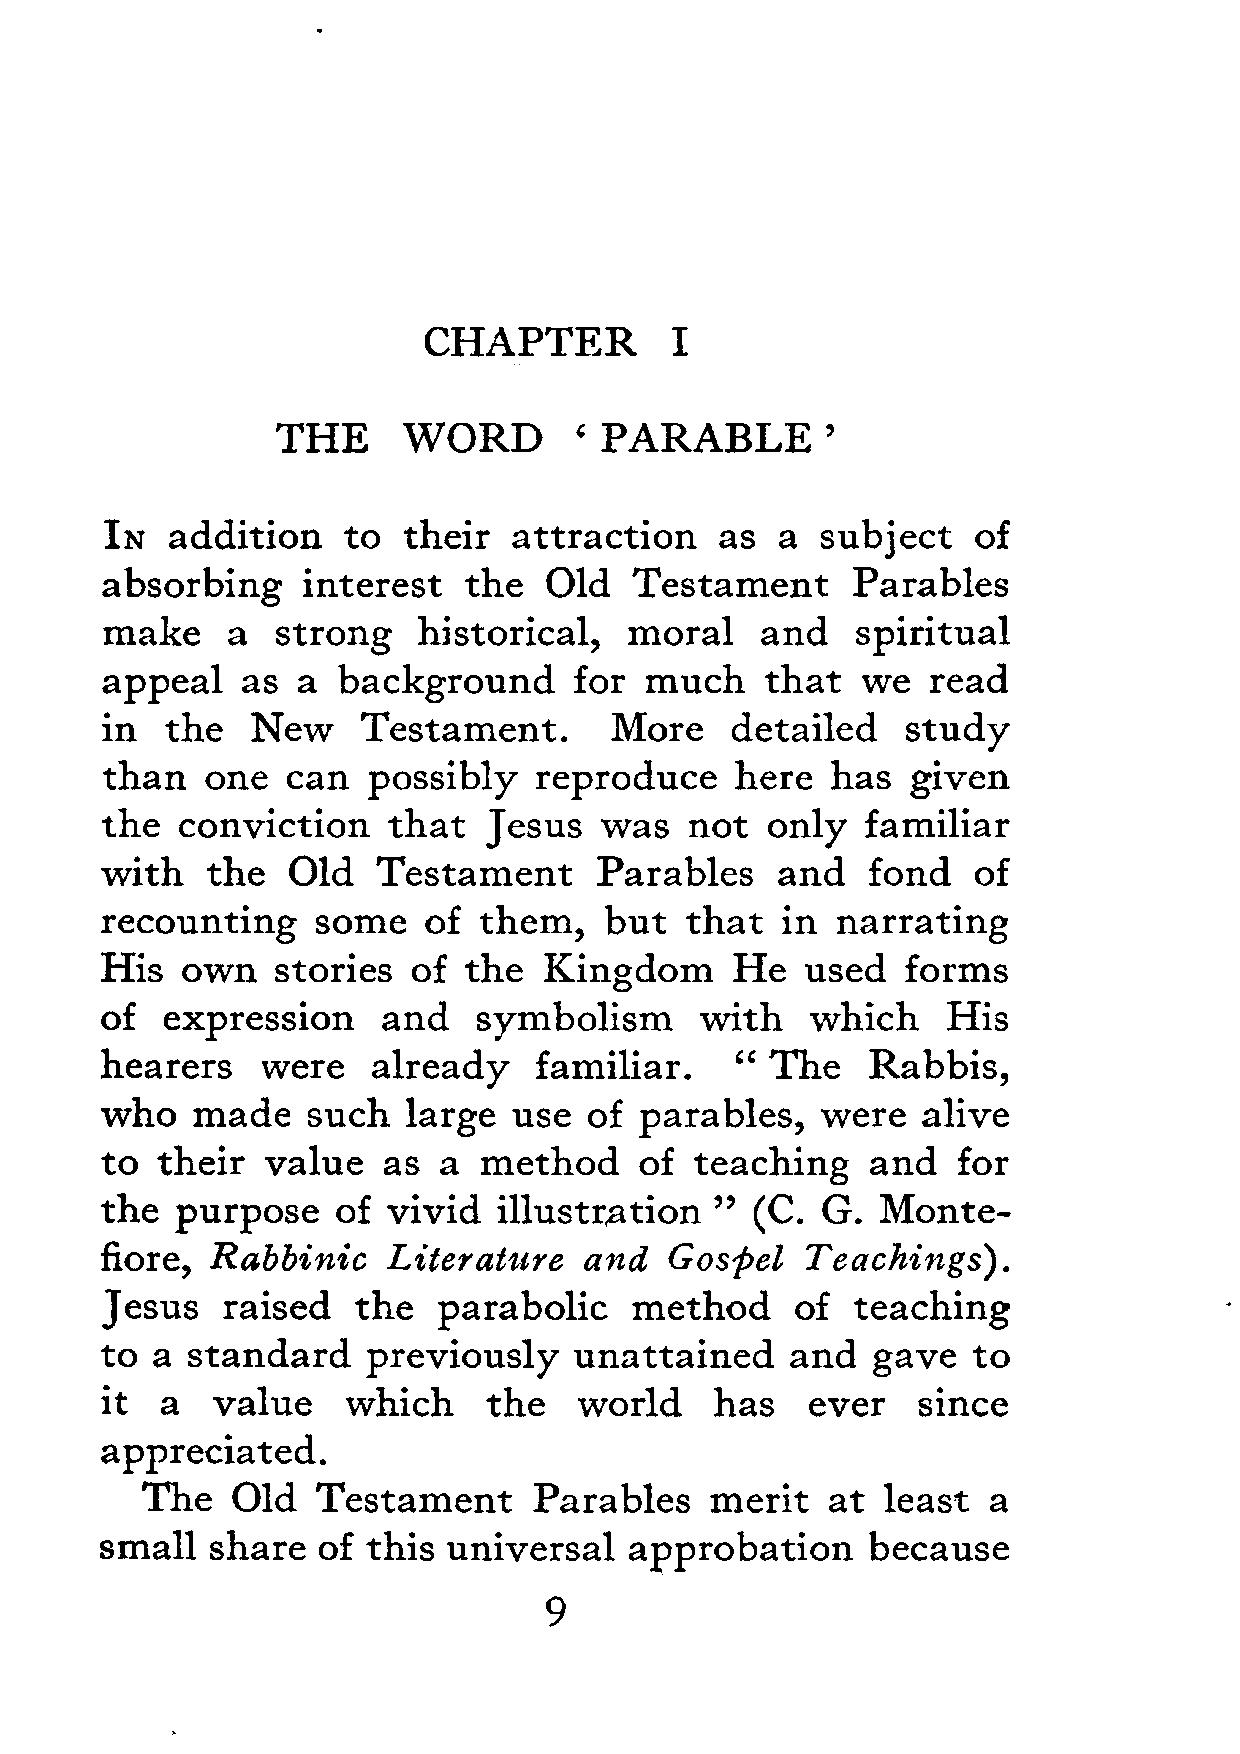chapter: (274, 322, 837, 456)
content: (97, 515, 1013, 1574)
content_pagenumber: (539, 1590, 569, 1631)
